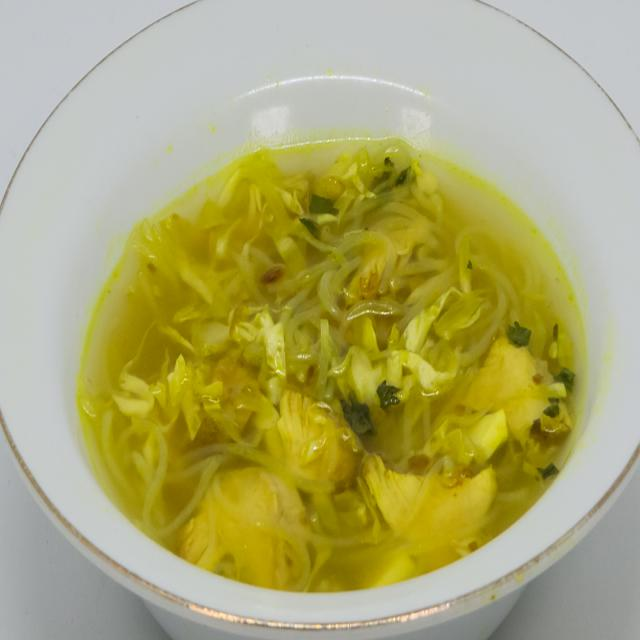Soto-Lamongan: (56, 72, 590, 610)
